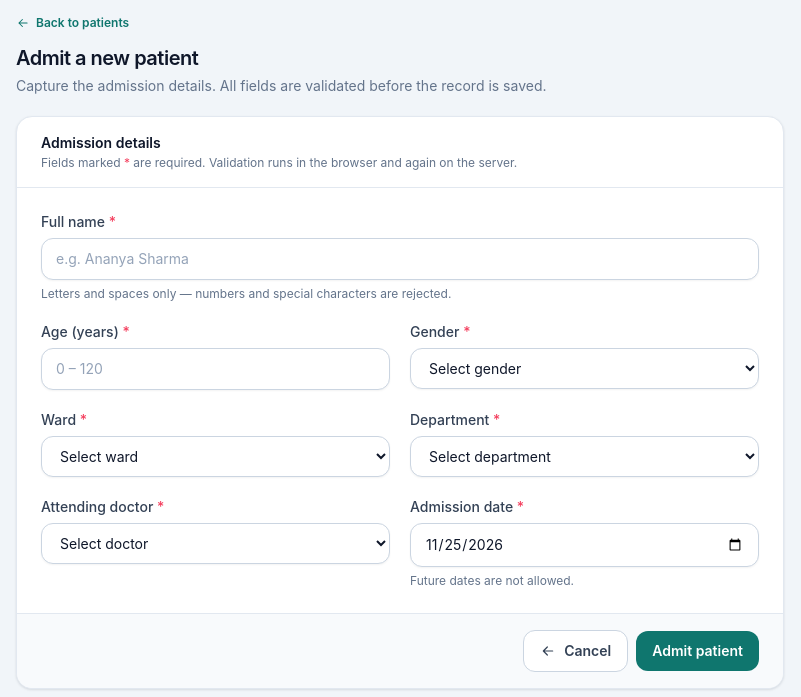
AddPatientPage › does not call the API when client validation fails
The width and height of the screenshot is (801, 697).
Expected: the field labelled "Full name *" is shown, 41,238 -> 759,280
Step 1. Click the button "Admit patient" → (698,651), box 636,631 -> 759,671
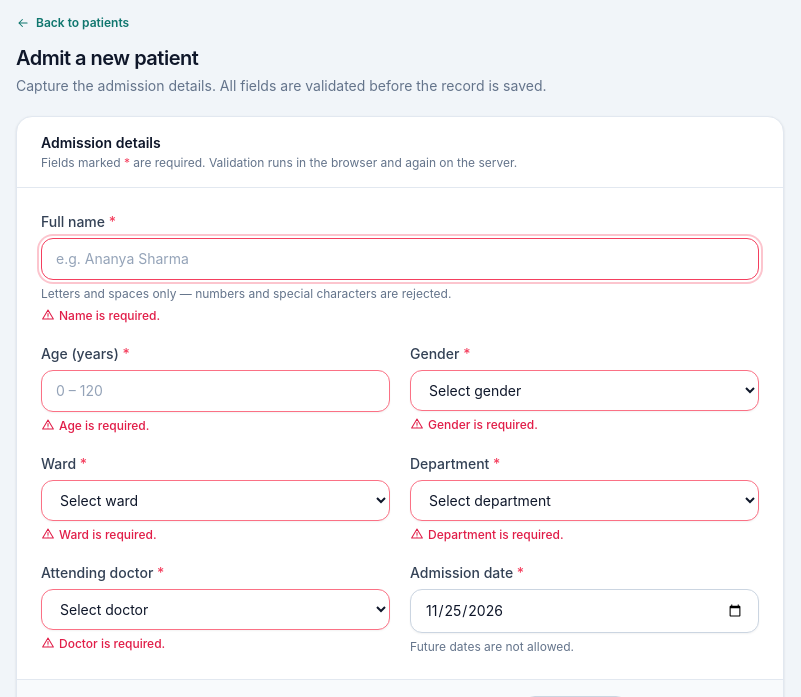
Expected: the text "Name is required." is shown, 59,308 -> 160,324
